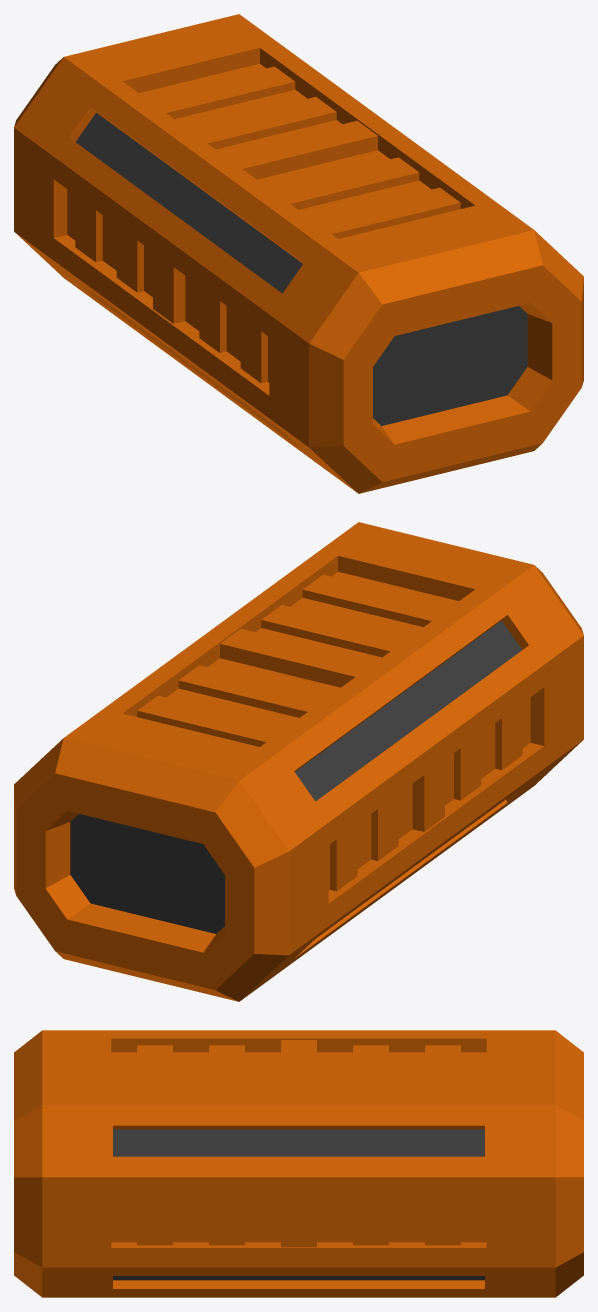
3 renders of one model, top to bottom at view 1: azimuth 30°, elevation 25°; view 2: azimuth 150°, elevation 25°; view 3: azimuth 270°, elevation 25°, orthographic. The views are drawn at different scales.
Visible parts, largest first — view 1: Cube.001; view 2: Cube.001; view 3: Cube.001.
Part boxes in pixels (x1,y1,x2,y2): Cube.001: (14, 14, 583, 493); Cube.001: (14, 522, 583, 1001); Cube.001: (14, 1030, 583, 1297).
Bounding box in the file's own units: 195 × 150 × 403.
